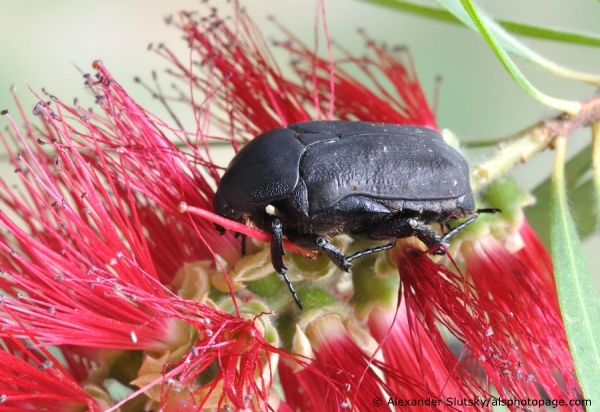Protaetia_afflicta: (211, 111, 506, 312)
